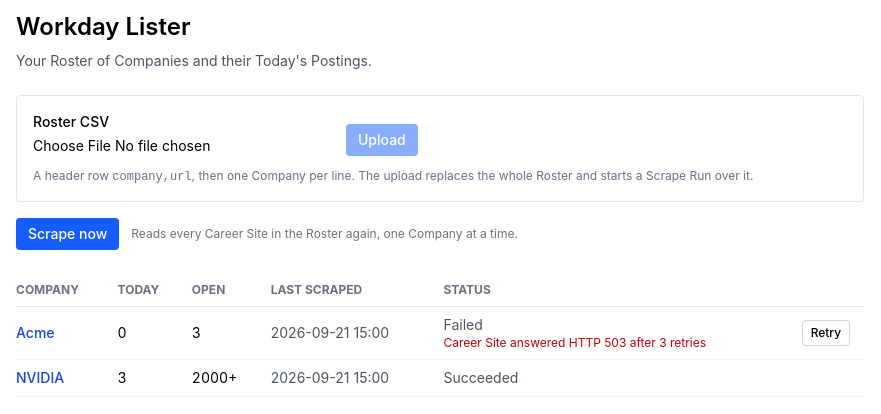
Test: a refused Retry says a run is in progress and shows that run
Click the button "Retry".
click(826, 333)  # box [802,320,850,346]
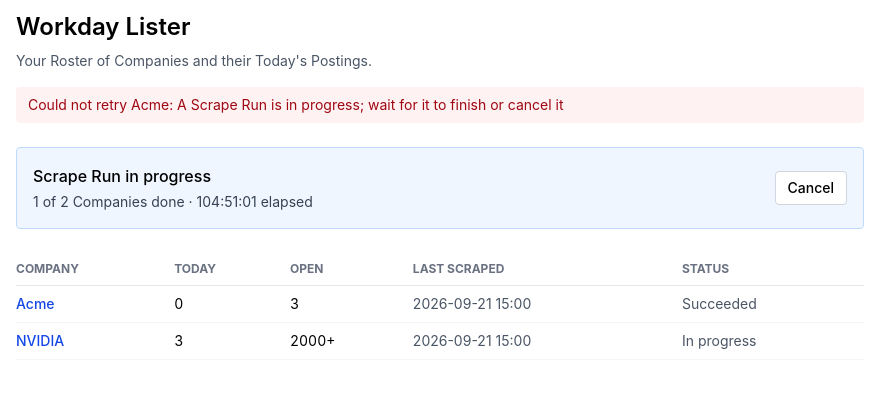
Expected: the text "1 of 2 Companies done · 104:51:01 elapsed" is shown, [33,193,313,210]
